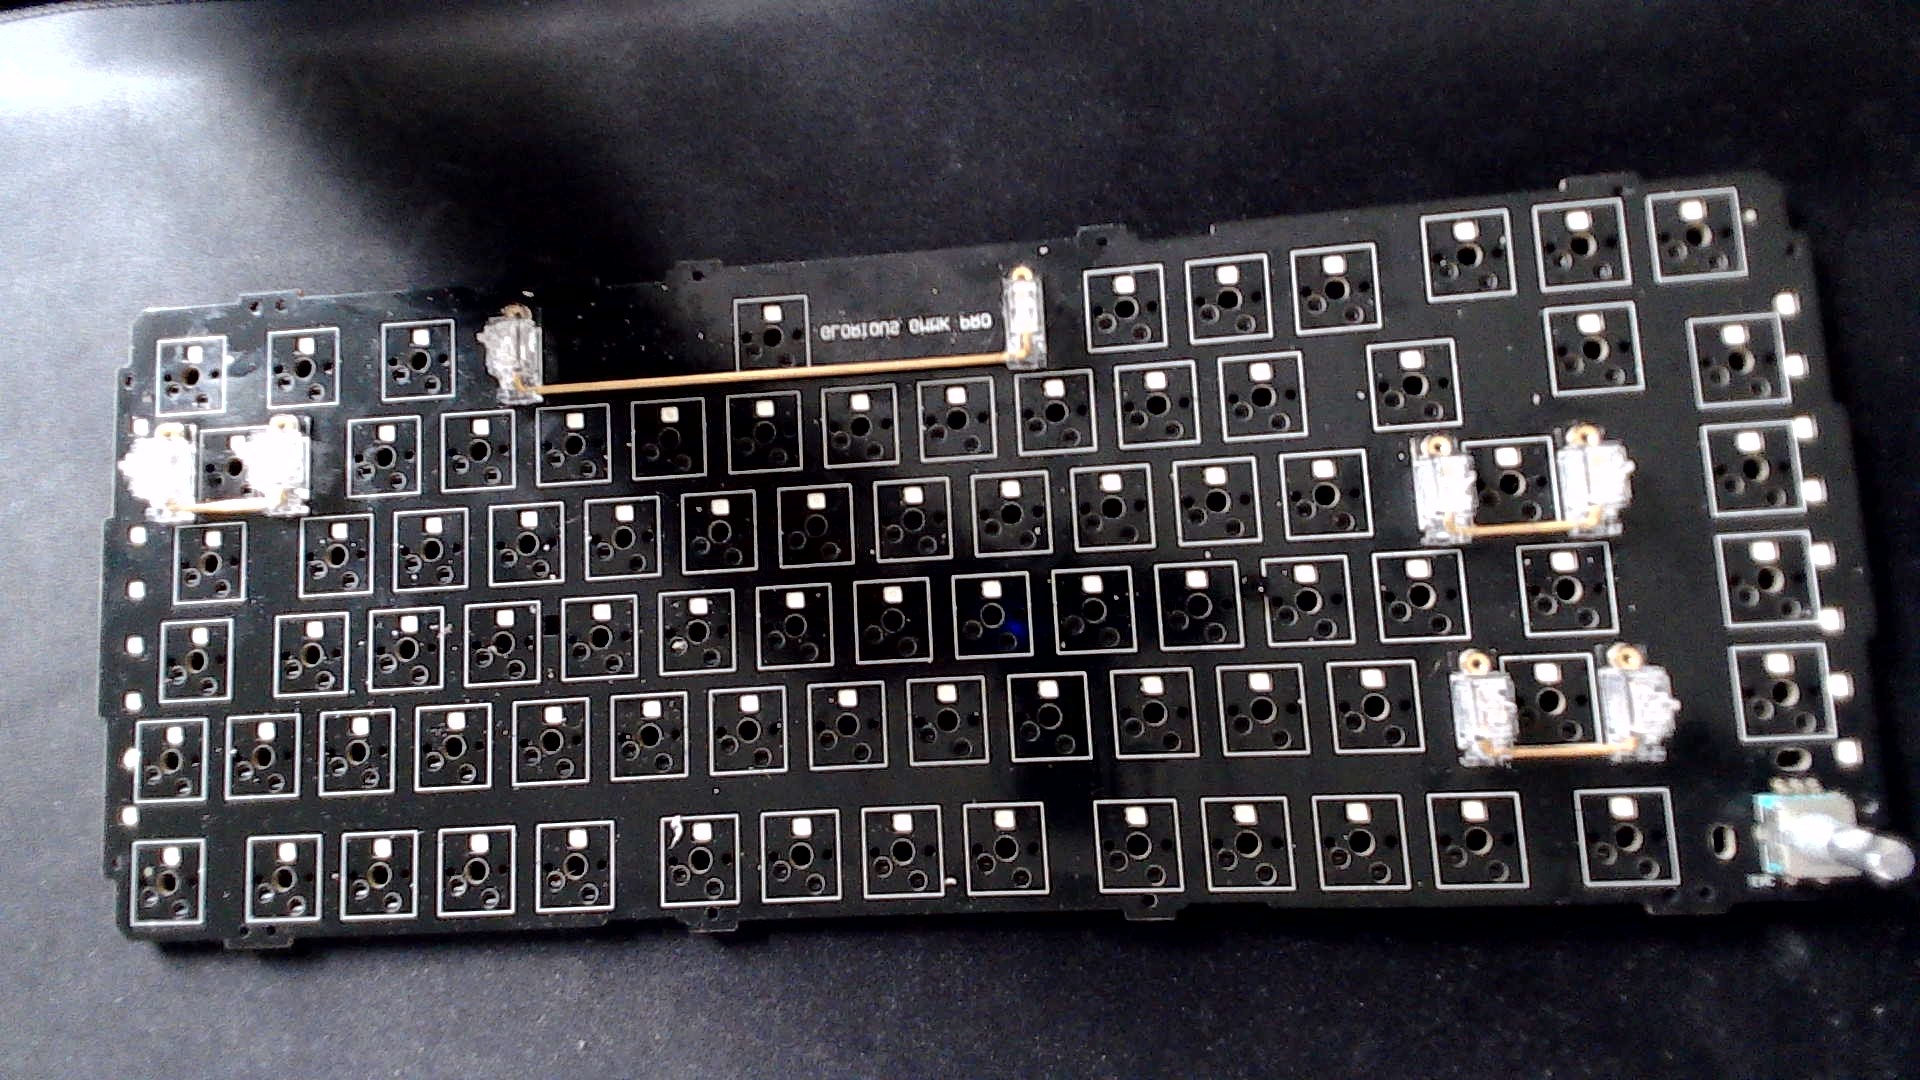pcb: (61, 161, 1919, 963)
